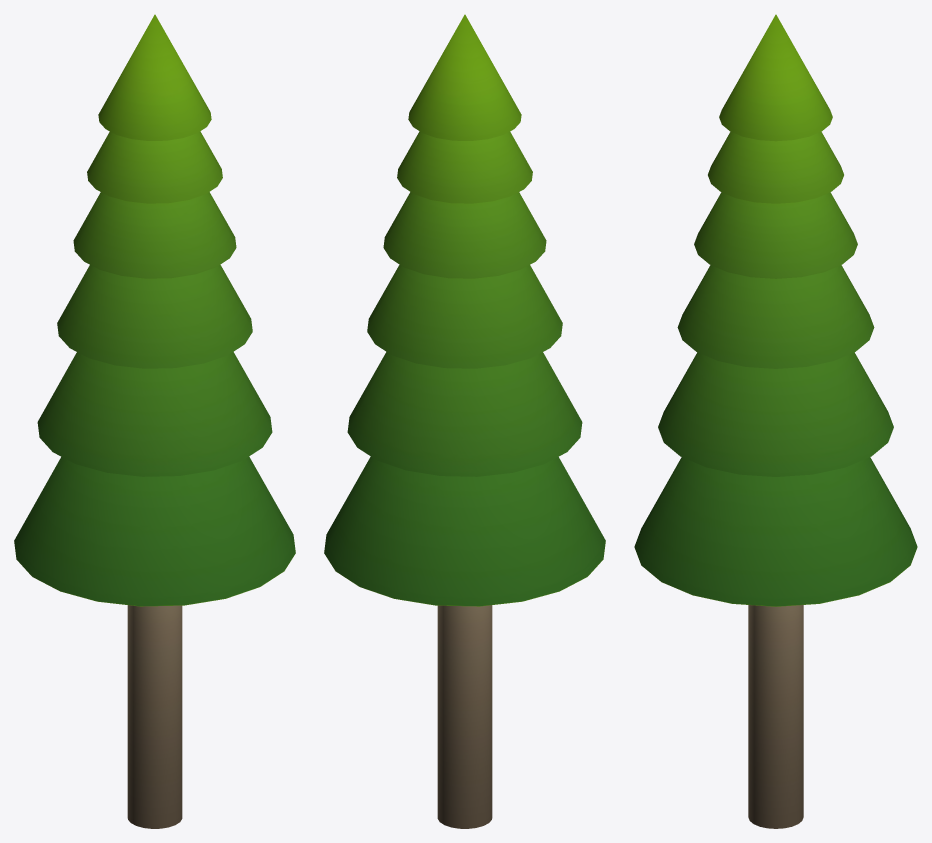
Rendered from tree_05.fbx.
3 renders of one model, left to right at view 1: azimuth 30°, elevation 25°; view 2: azimuth 150°, elevation 25°; view 3: azimuth 270°, elevation 25°, orthographic.
Visible parts, largest first — view 1: pCone18; view 2: pCone18; view 3: pCone18.
Boxes of the visible parts, x1,y1,x2,y2 form: pCone18: (14, 14, 295, 828); pCone18: (324, 14, 605, 828); pCone18: (634, 14, 917, 828).
Size of the model in its own units: 4.98 by 15.57 by 4.98.
Materials: 1 (1 with a texture image).
